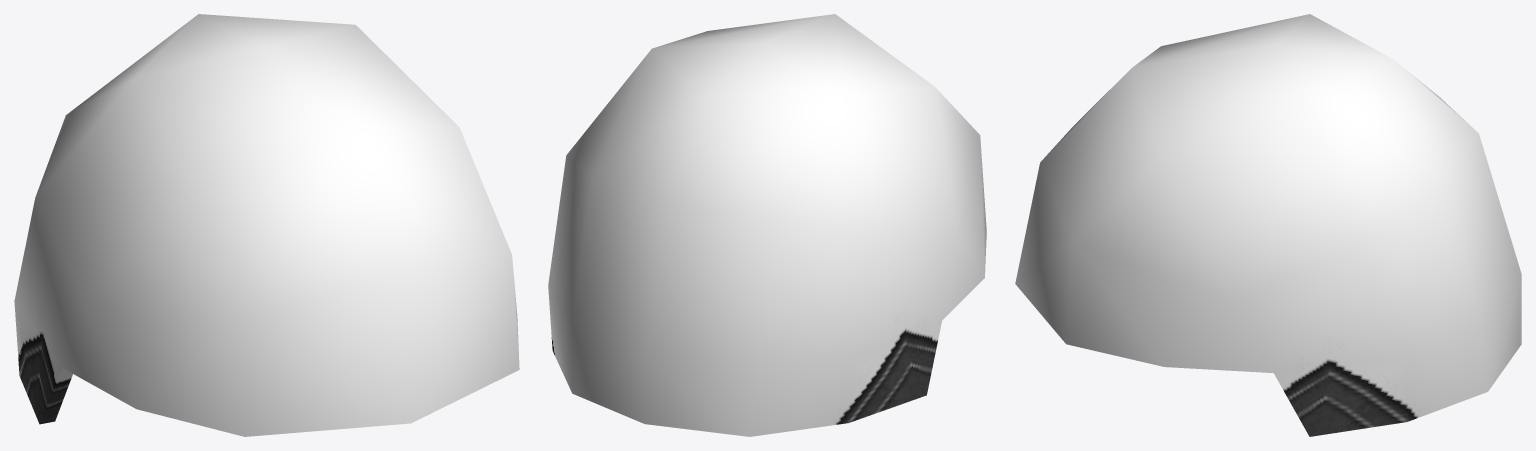
Rendered from SholderArmor.dae.
3 renders of one model, left to right at view 1: azimuth 30°, elevation 25°; view 2: azimuth 150°, elevation 25°; view 3: azimuth 270°, elevation 25°, orthographic. The views are drawn at different scales.
Parts seen in each view (by area): view 1: armor; view 2: armor; view 3: armor.
Boxes of the visible parts, box(x1,y1,x2,y2) form: armor: box(14, 14, 519, 436); armor: box(548, 14, 986, 436); armor: box(1015, 14, 1521, 436).
Bounding box in the file's own units: 5.24 × 4.16 × 6.3.
Materials: 1 (1 with a texture image).
